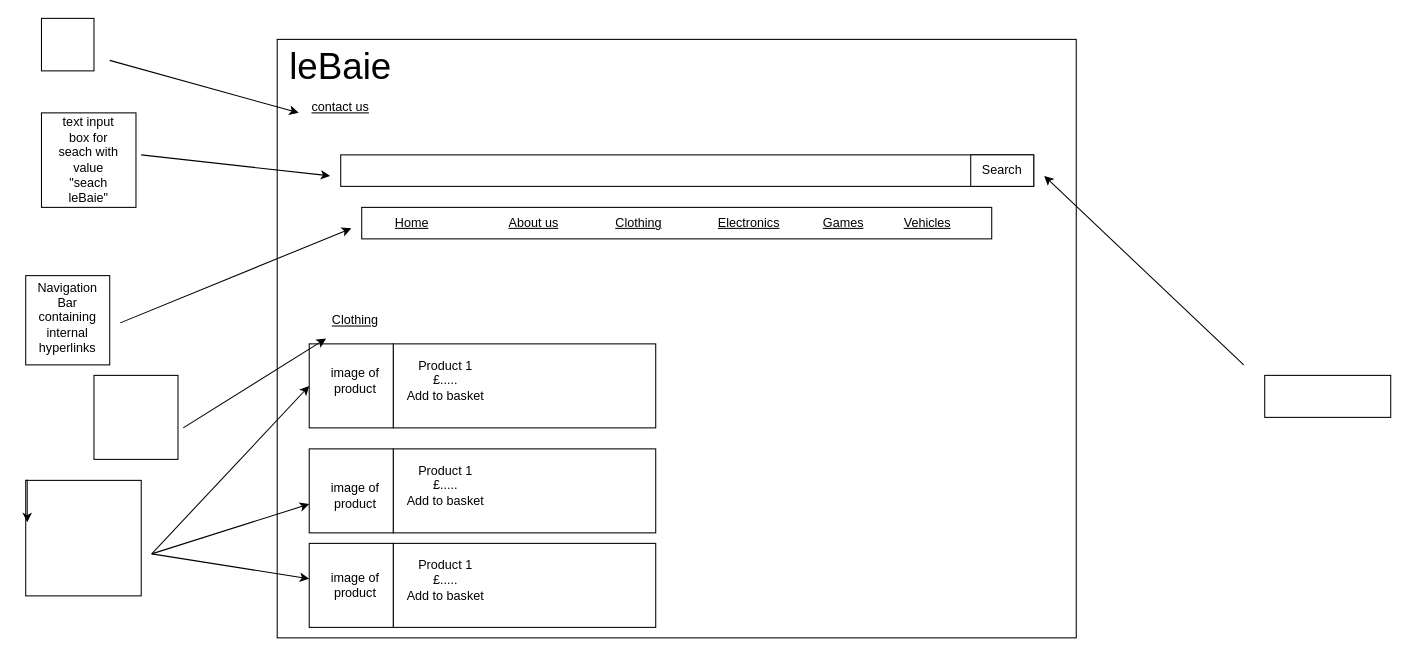
Some shapes in this 1409 by 656 pixel diagram are drawn without their labels. The shapes that lost their labels are listed below. From the top down, each one's box as (x1, y1, x2, y2) in pixels, then its label:
(40, 17, 94, 71): internal hyperlink
(340, 154, 1034, 186): Search leBaie
(1264, 374, 1391, 417): carrys out process of search
(93, 374, 178, 459): header
(25, 479, 141, 596): products on website using php and SQL to display data from appropriate category
